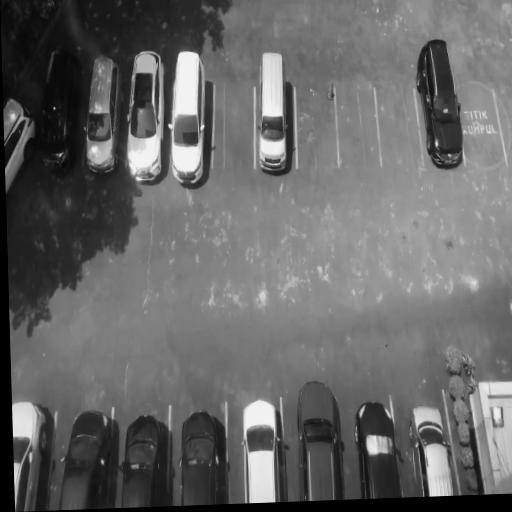Car: (294, 372, 348, 500), (415, 39, 465, 170), (36, 44, 83, 180), (168, 45, 213, 186), (125, 42, 168, 186), (59, 406, 116, 509), (253, 42, 296, 176), (119, 400, 173, 506), (406, 396, 462, 495), (354, 392, 406, 498), (14, 402, 64, 511), (241, 392, 289, 502), (181, 400, 230, 504), (81, 52, 120, 180), (3, 84, 43, 203)
Space Available: (295, 65, 338, 178), (334, 65, 380, 170), (376, 69, 420, 178), (211, 69, 256, 174), (459, 63, 504, 166)
